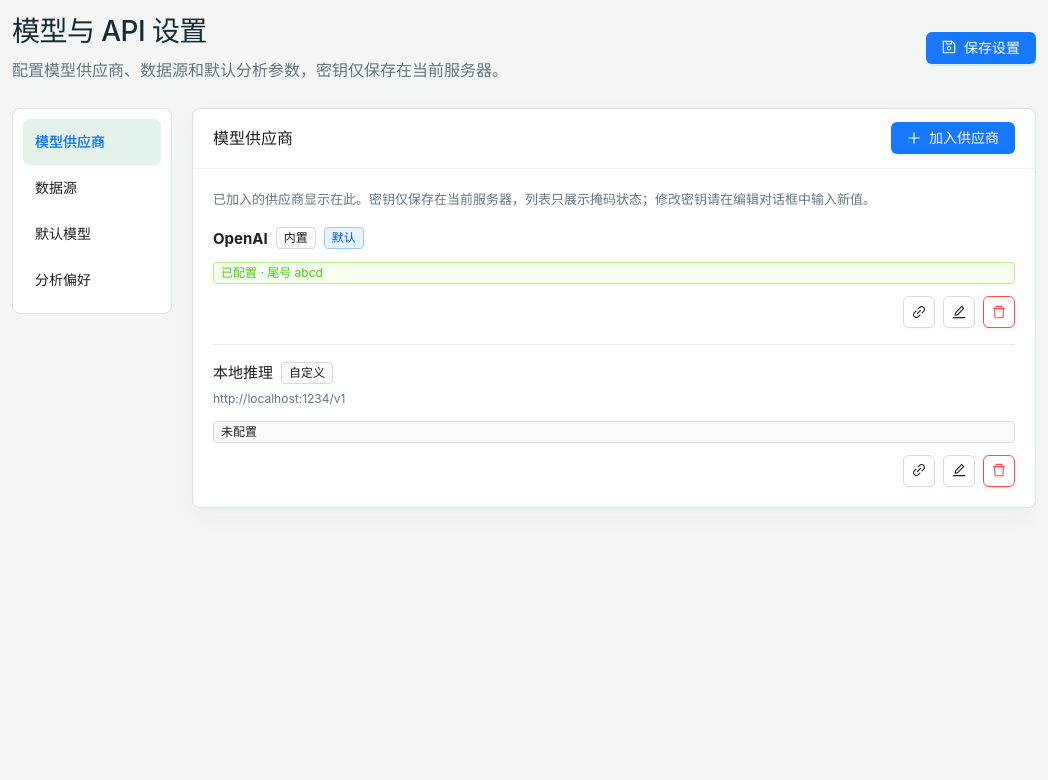
Test case: reports a removal failure without dropping the list
Click the button named "删除 OpenAI" at (999, 312), box [983,296,1015,328]
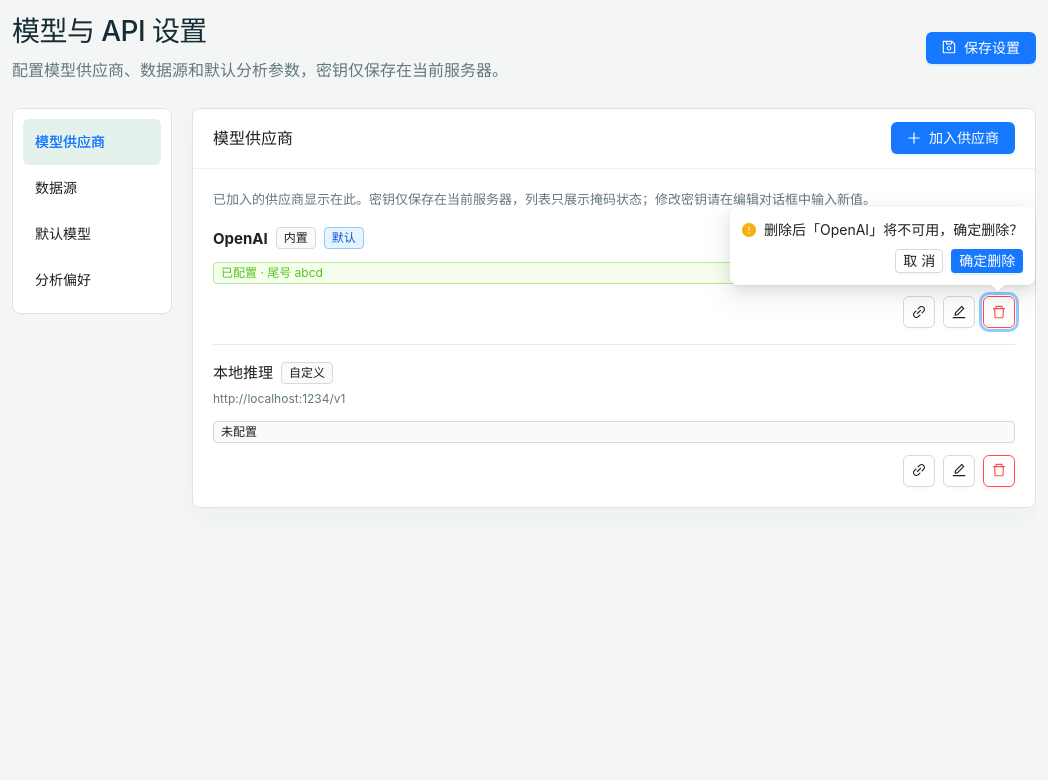
Click the button "确定删除" at (987, 261), box [951,249,1023,273]
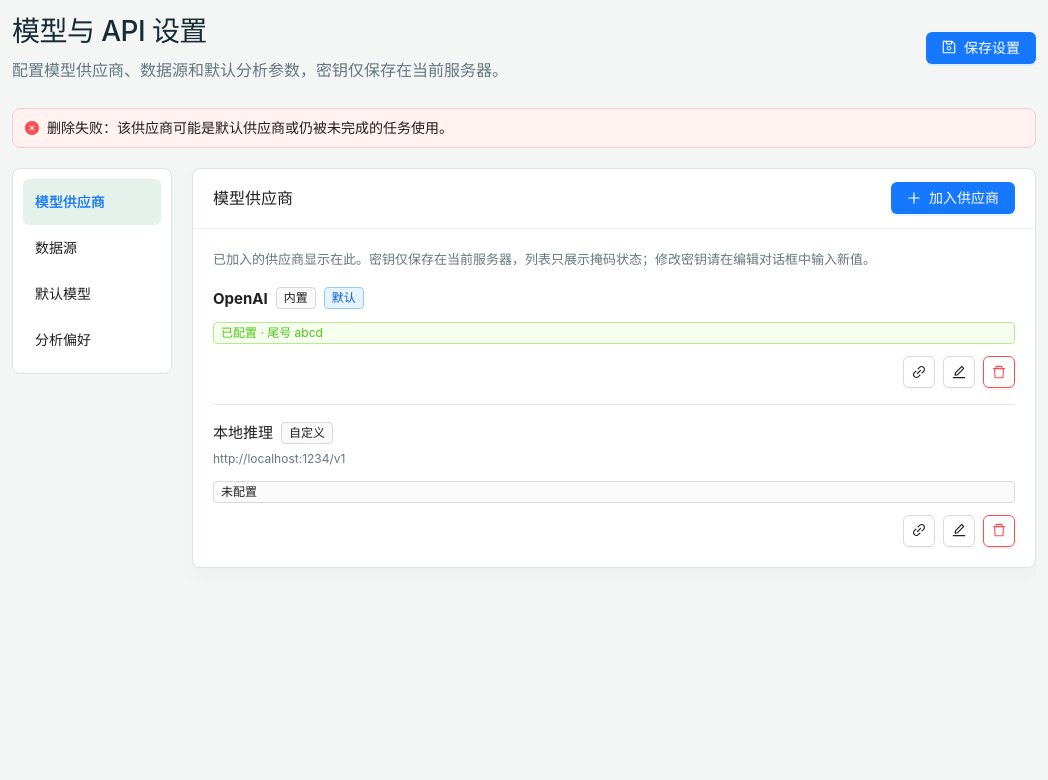
Check: the text "本地推理" is shown, box [213,421,273,445]
Check: the text "删除失败：该供应商可能是默认供应商或仍被未完成的任务使用。" is shown, box [47,119,453,136]
